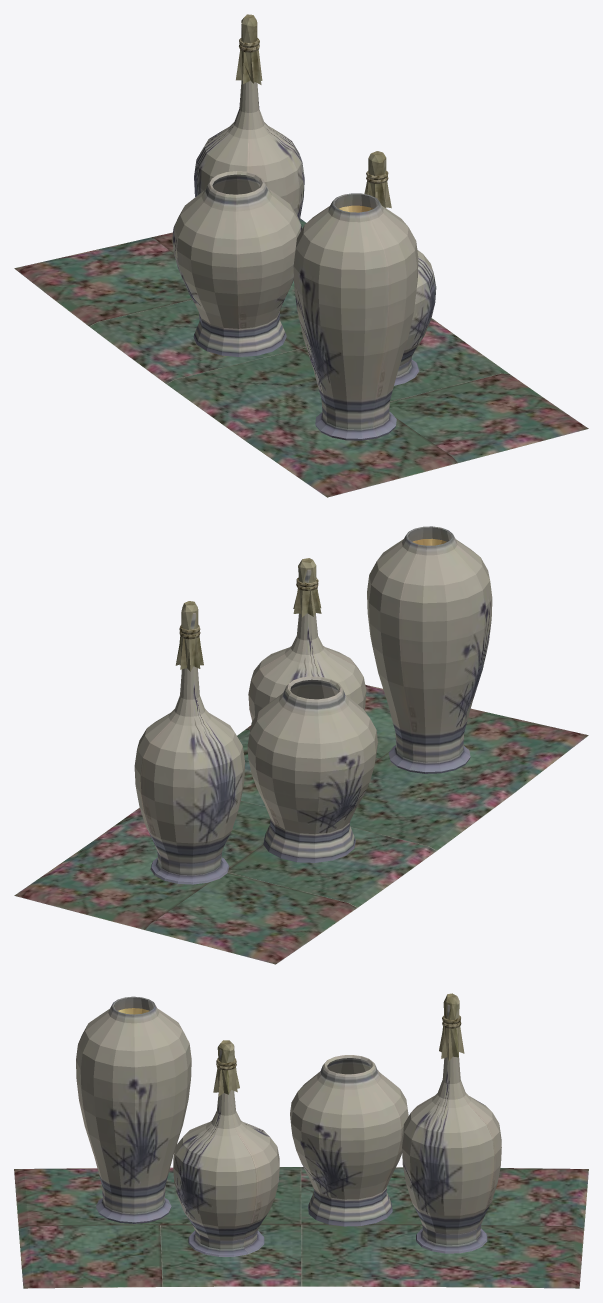
File: TW2_9_ADDONS_04_9-transformed.glb
3 renders of one model, top to bottom at view 1: azimuth 30°, elevation 25°; view 2: azimuth 150°, elevation 25°; view 3: azimuth 270°, elevation 25°, orthographic. The views are drawn at different scales.
Visible parts, largest first — view 1: default; view 2: default; view 3: default.
Part boxes in pixels (bbox=[...]): default: bbox=[14, 14, 588, 497]; default: bbox=[14, 526, 588, 964]; default: bbox=[14, 993, 588, 1288].
Bounding box in the file's own units: 1.05 × 1 × 2.11.
Materials: 1 (1 with a texture image).
